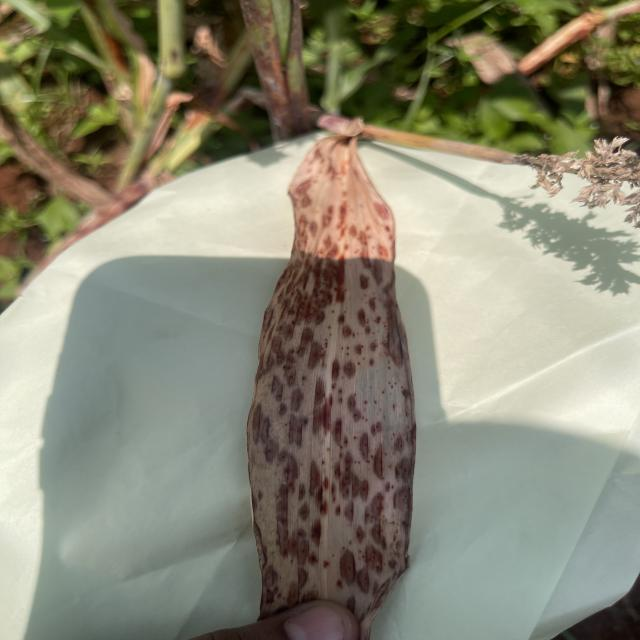millet_rust: (242, 113, 419, 608)
